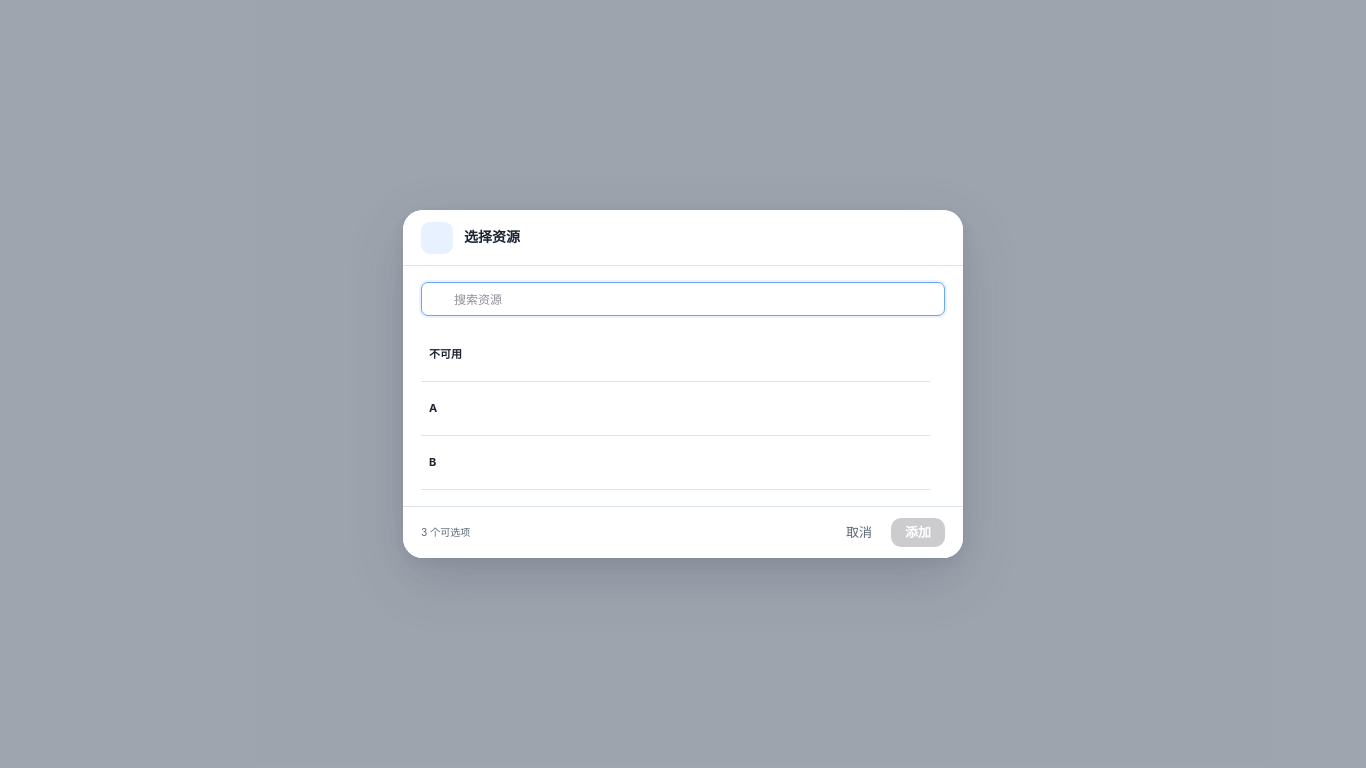
Test: Computer Use interaction contract › navigates candidates without committing or selecting a disabled option
The image size is (1366, 768).
Press ArrowDown in the search field labelled "搜索资源", box [421,282,945,316]
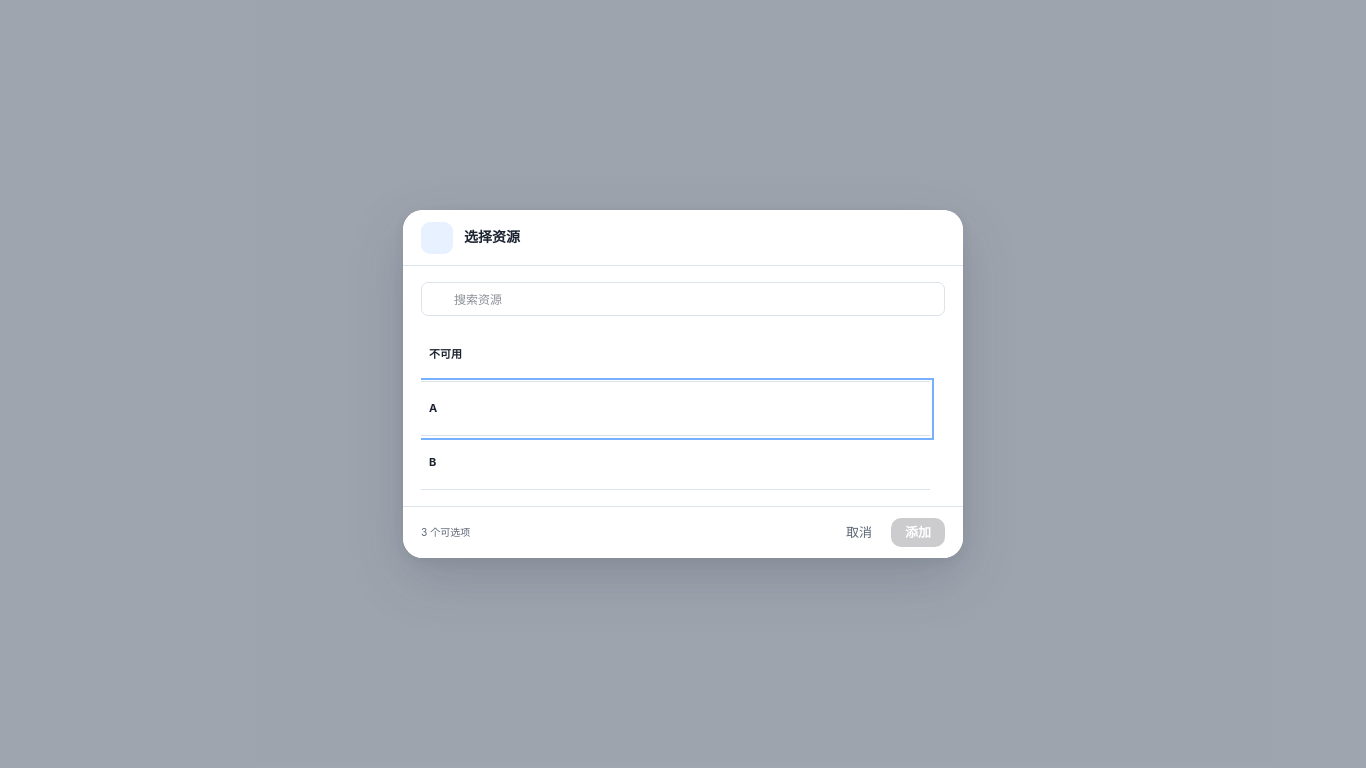
Press ArrowDown in the option "A", box [421,382,930,436]
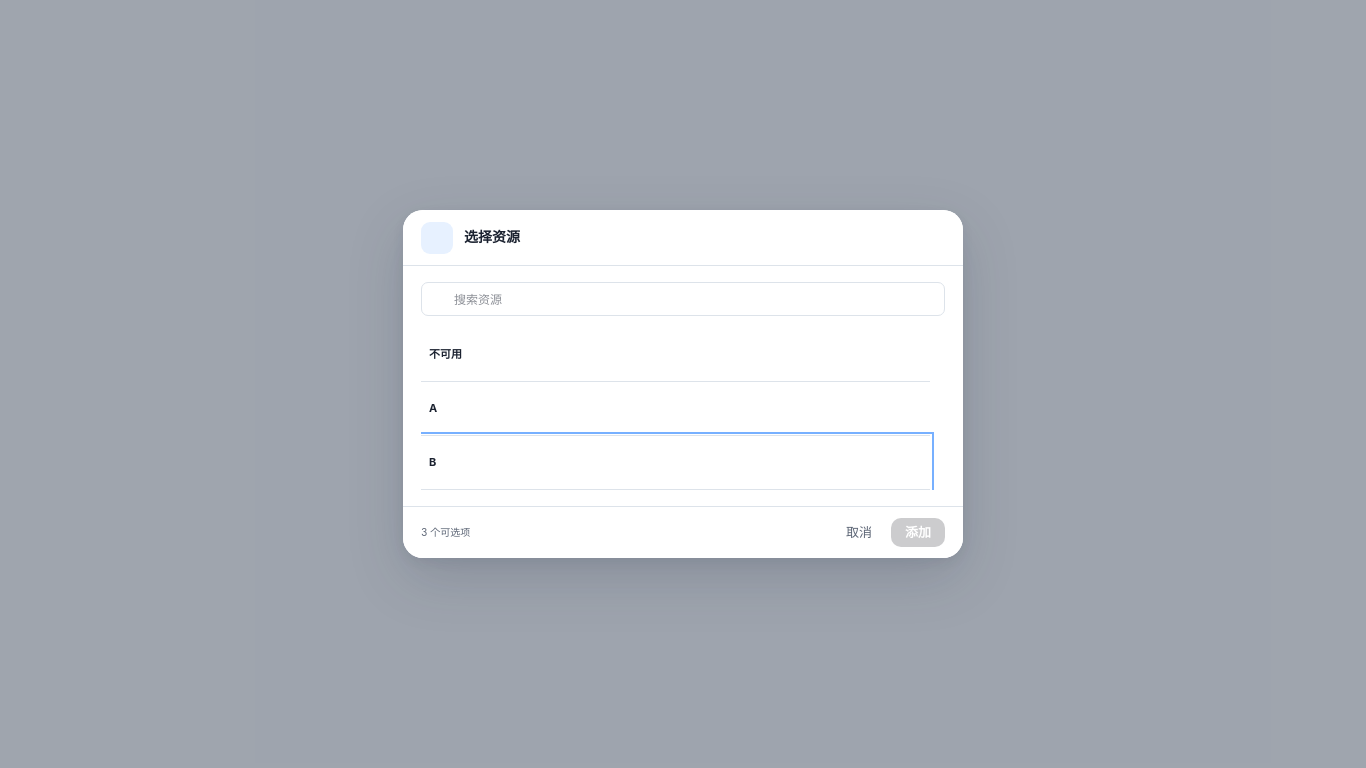
Expected: the button "添加" is disabled, [891,518,945,547]
Click the option "B" at (433, 462), box [421,436,930,490]
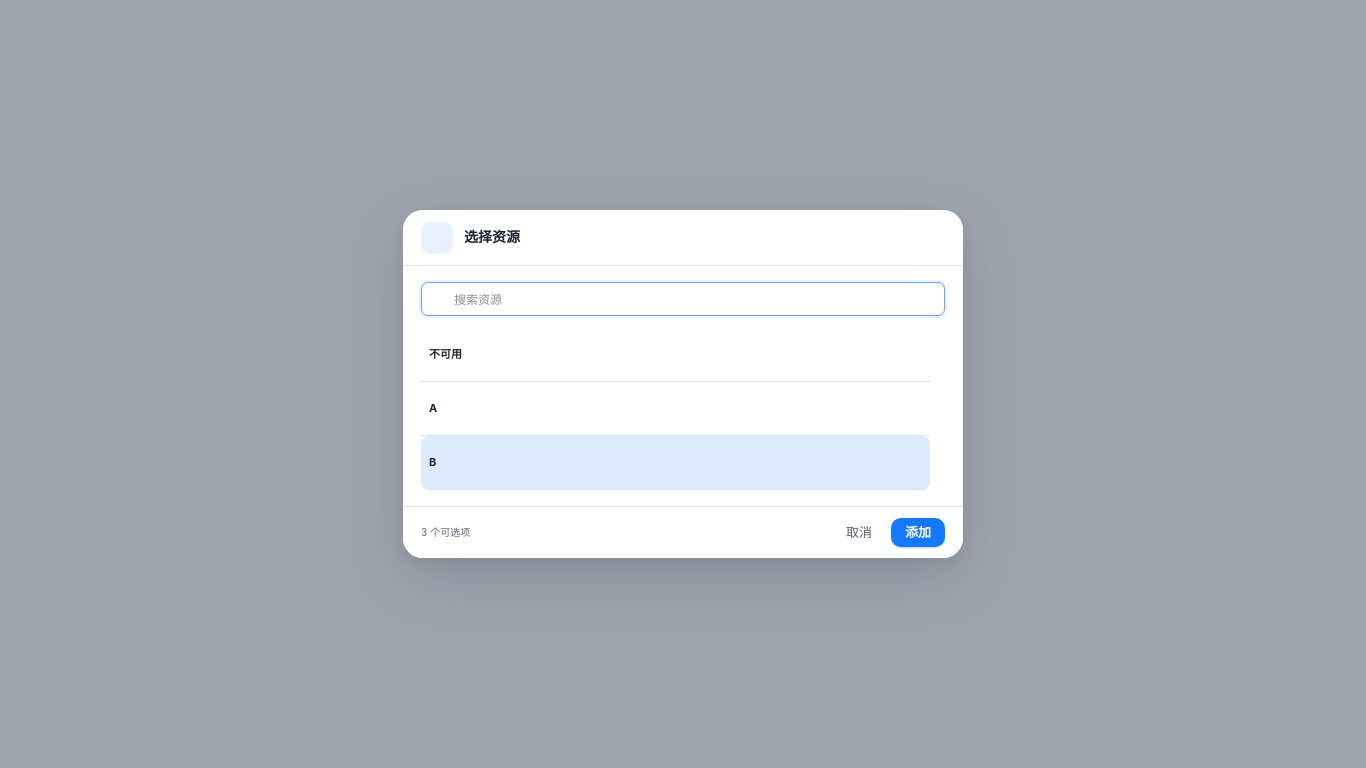
Expected: the button "添加" is enabled, [891,518,945,547]
